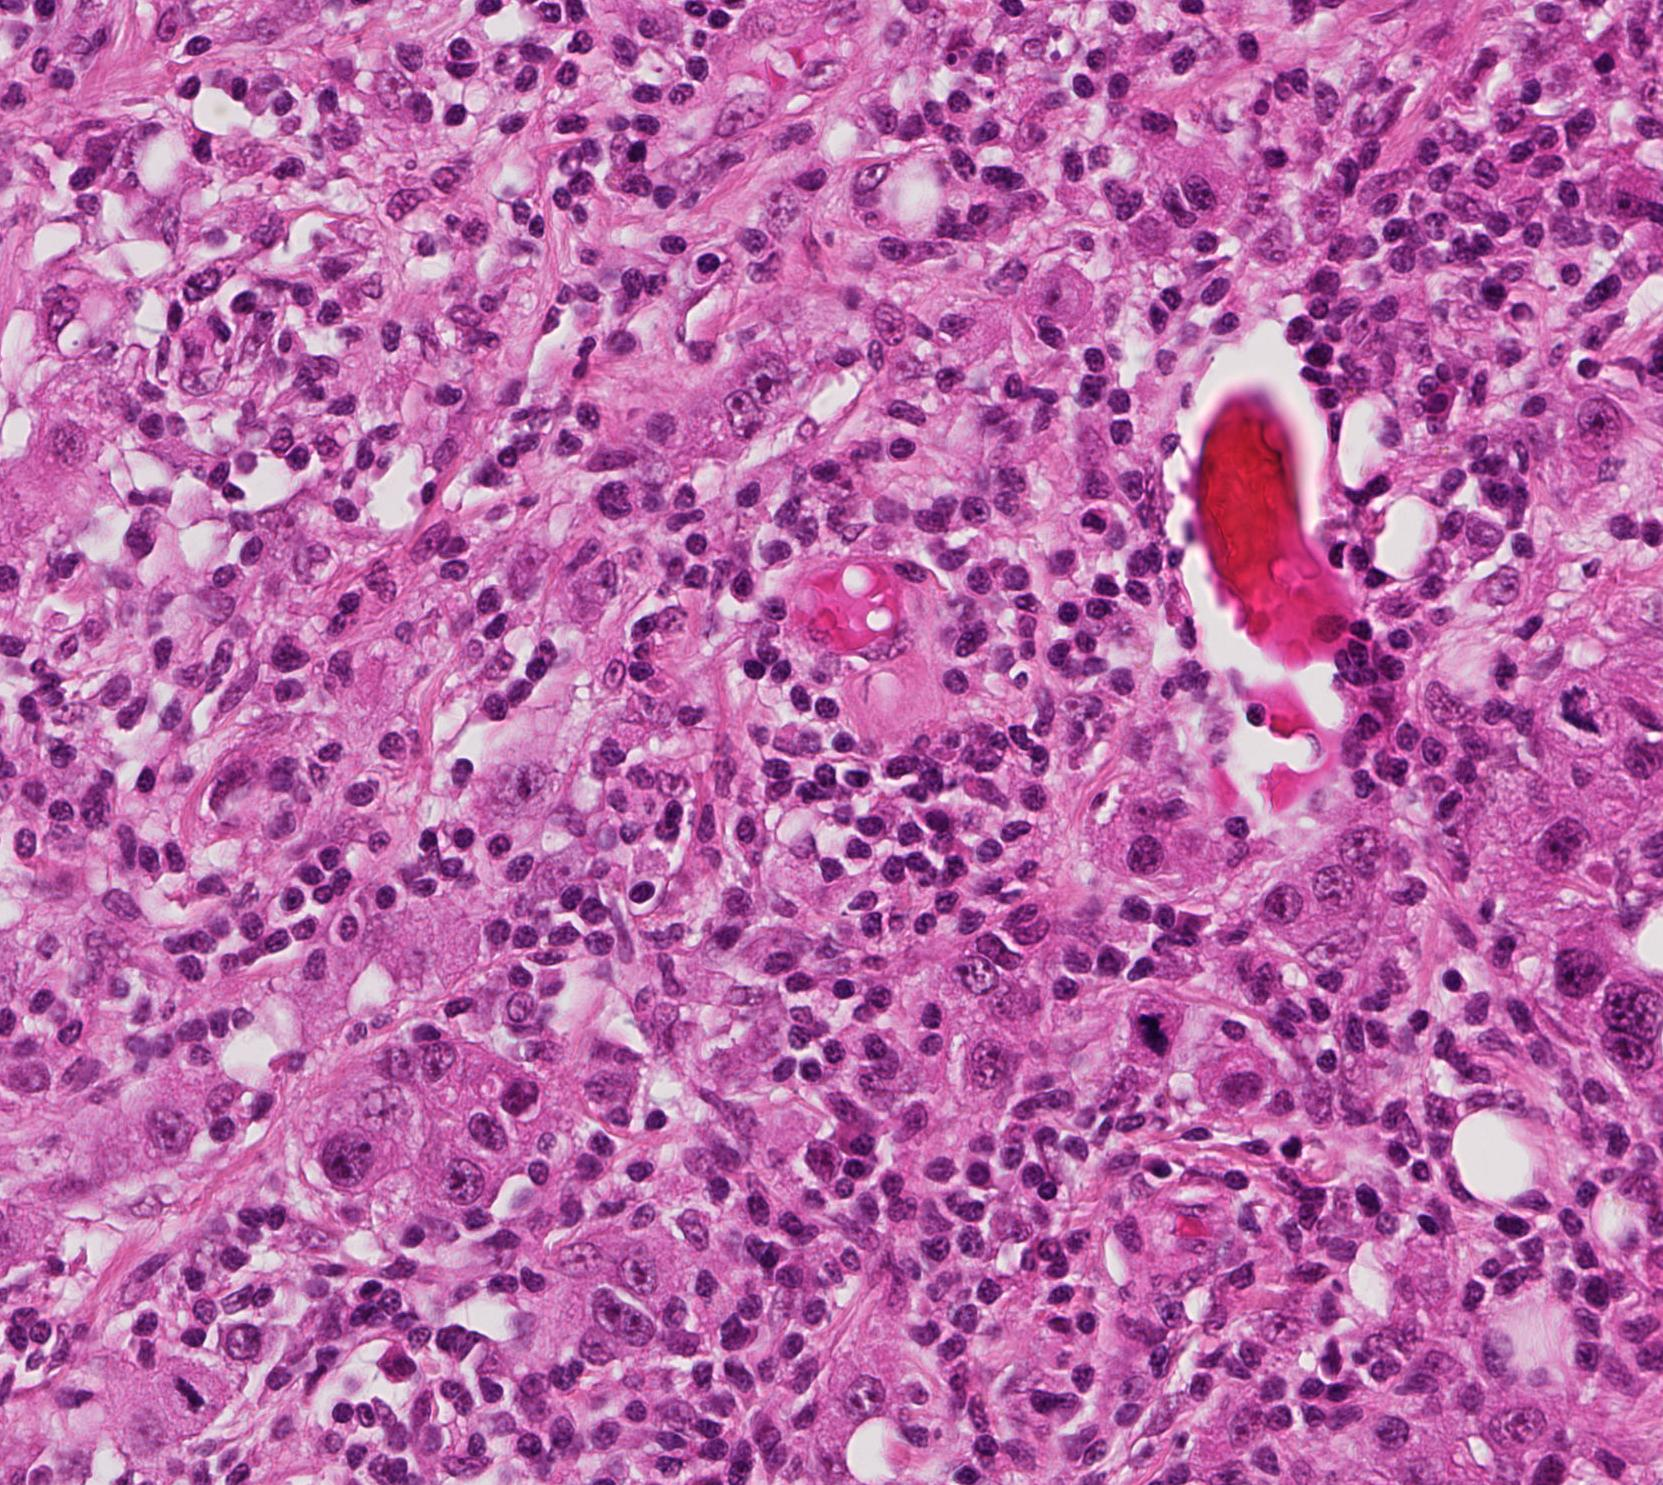mitosis: (1124, 1002, 1184, 1062), (161, 1360, 219, 1420)
